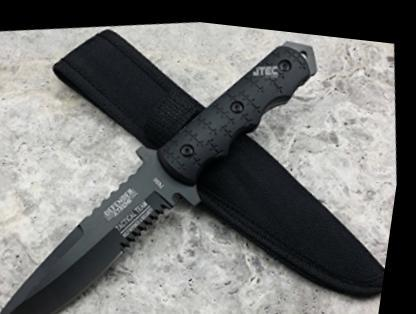knife: (0, 136, 206, 311)
